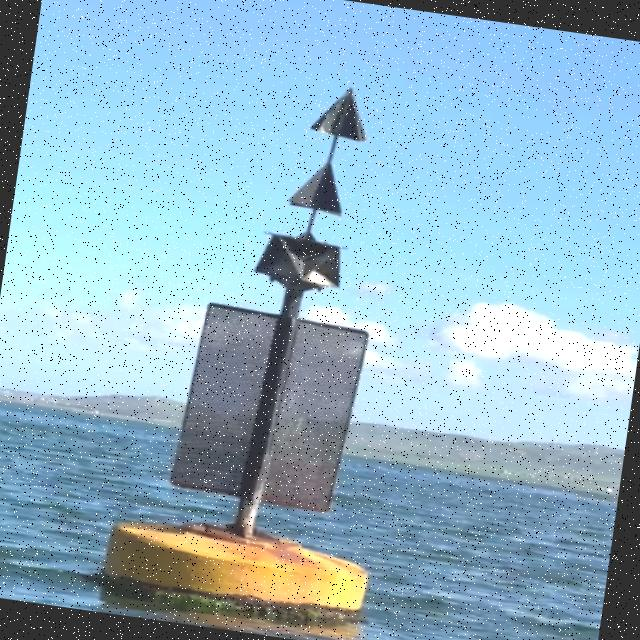marque: (111, 62, 441, 631)
